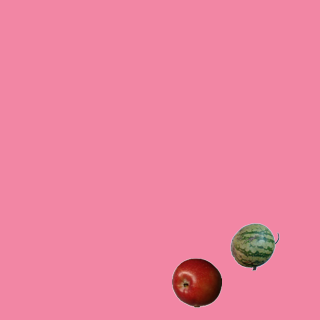Apple Braeburn: (171, 257, 221, 307)
Watermelon: (229, 221, 279, 271)
